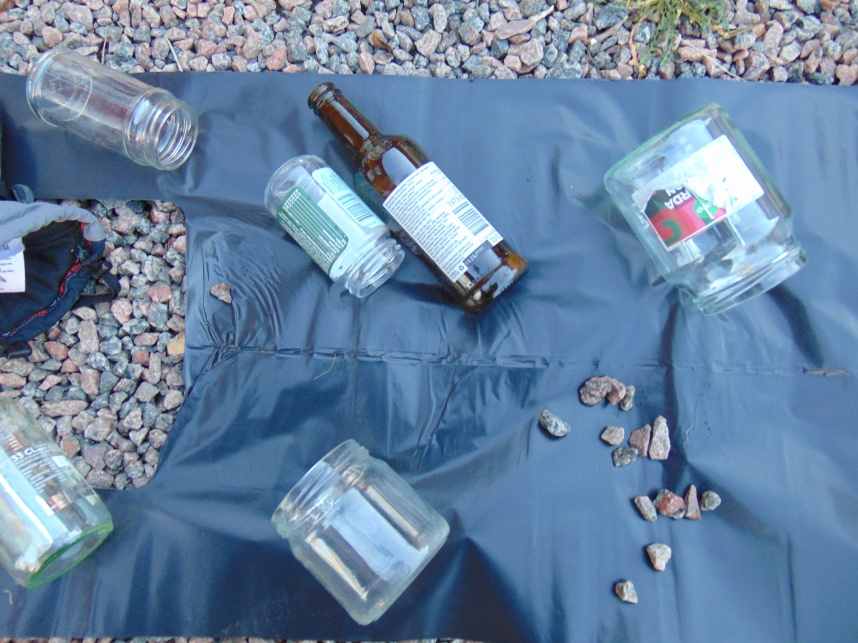glass_bottle: (307, 81, 527, 312), (606, 101, 810, 320), (271, 438, 450, 626), (1, 376, 113, 592), (25, 44, 199, 174), (263, 155, 405, 300)
